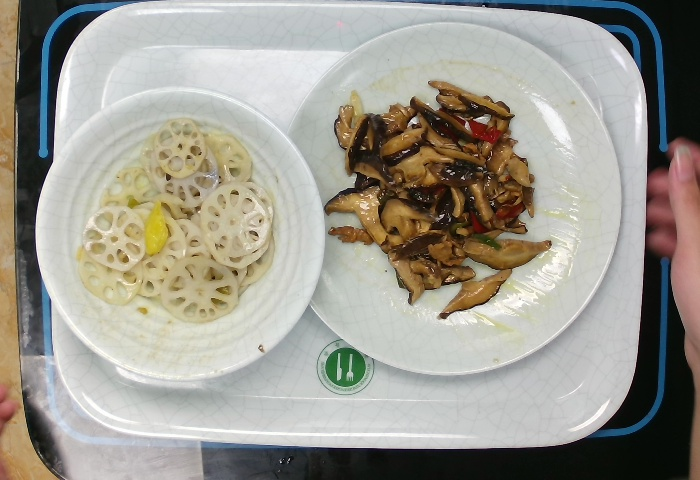JYsf-Da_Yuan_Pan: (281, 15, 631, 380)
JYsf-Xiao_Tang_Wan: (32, 81, 329, 384)
